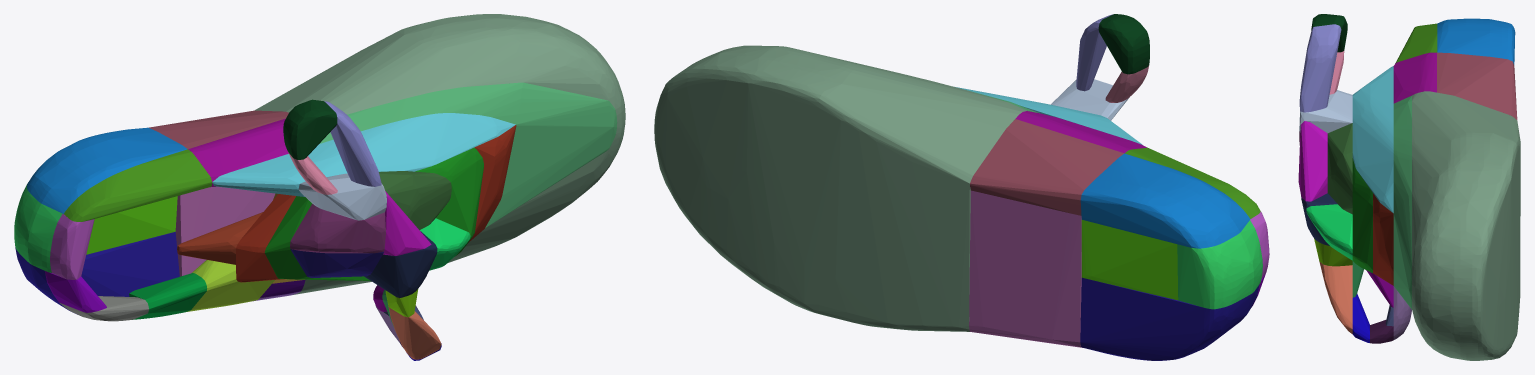
The model's file is coacd_collision.obj.
3 views of the same model, side by side, from view 1: azimuth 30°, elevation 25°; view 2: azimuth 150°, elevation 25°; view 3: azimuth 270°, elevation 25° (orthographic). The views are drawn at different scales.
Parts seen in each view (by area): view 1: geometry_0, geometry_3, geometry_2, geometry_29, geometry_30, geometry_8, geometry_20, geometry_15, geometry_7, geometry_28, geometry_14, geometry_17 (+20 smaller); view 2: geometry_0, geometry_7, geometry_29, geometry_20, geometry_13, geometry_17, geometry_36, geometry_25, geometry_14, geometry_2, geometry_30, geometry_6 (+3 smaller); view 3: geometry_0, geometry_2, geometry_13, geometry_3, geometry_29, geometry_12, geometry_22, geometry_19, geometry_8, geometry_14, geometry_23, geometry_15 (+12 smaller).
Part boxes in pixels (x1,y1,x2,y2): geometry_0: (254,14,625,294); geometry_3: (319,82,617,227); geometry_2: (212,113,515,196); geometry_29: (26,127,187,213); geometry_30: (64,149,212,221); geometry_8: (264,147,483,280); geometry_20: (15,232,179,314); geometry_15: (236,125,516,282); geometry_7: (175,186,274,276); geometry_28: (290,204,385,253); geometry_14: (188,118,288,187); geometry_17: (86,196,177,254); geometry_0: (654,45,1027,331); geometry_7: (969,190,1082,347); geometry_29: (1080,153,1250,248); geometry_20: (1080,277,1259,360); geometry_13: (970,119,1123,215); geometry_17: (1081,220,1178,300); geometry_36: (1177,220,1262,309); geometry_25: (1098,14,1149,74); geometry_14: (1015,111,1146,153); geometry_2: (954,86,1142,144); geometry_30: (1125,147,1260,218); geometry_6: (1051,79,1129,120); geometry_0: (1412,91,1520,360); geometry_2: (1352,66,1393,213); geometry_13: (1437,52,1517,119); geometry_3: (1393,95,1411,309); geometry_29: (1437,18,1515,64); geometry_12: (1299,24,1341,112); geometry_22: (1298,121,1327,201); geometry_19: (1327,123,1352,214); geometry_8: (1352,158,1372,272); geometry_14: (1393,52,1436,103); geometry_23: (1306,204,1352,260); geometry_15: (1373,193,1393,285).
Size of the model in its own units: 243 by 120 by 89.28.
